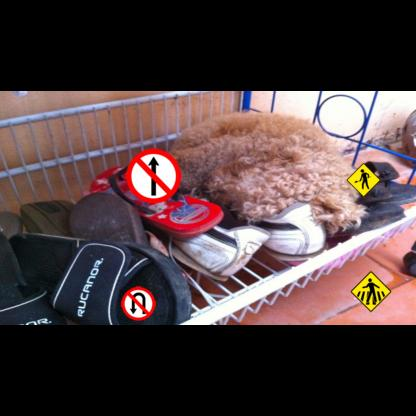A-24: (346, 163, 381, 197)
A-32b: (350, 271, 392, 312)
R-3: (126, 148, 181, 203)
R-5a: (121, 287, 155, 320)
